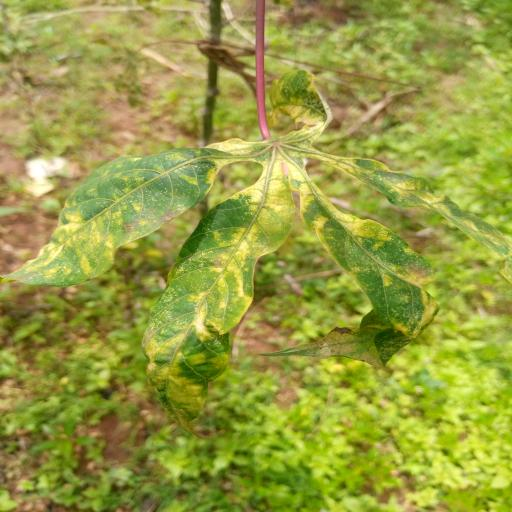Cassava_Mosaic: (0, 65, 512, 439)
